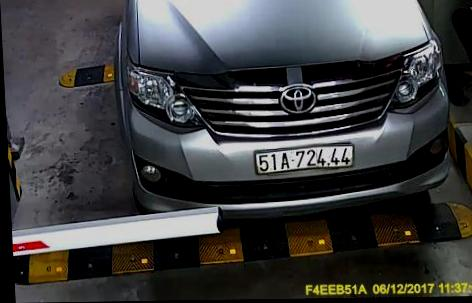License_Plate: (253, 142, 359, 176)
